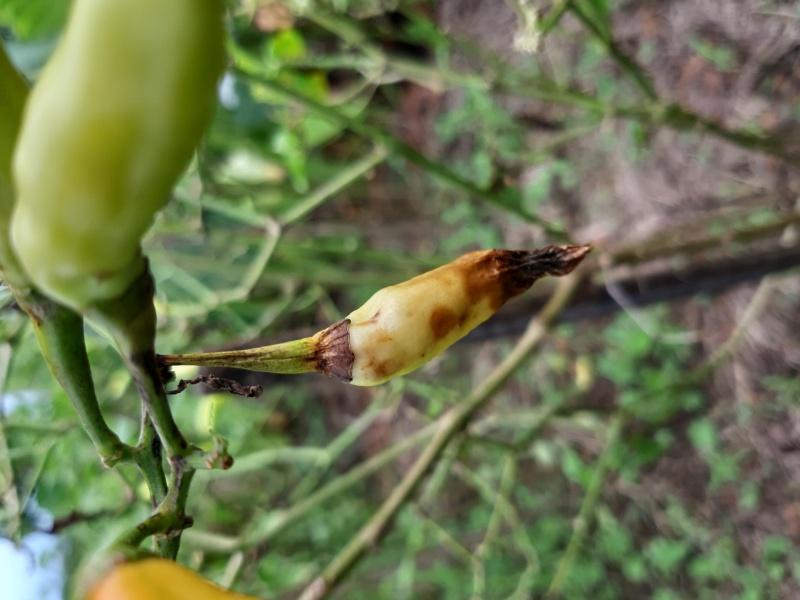antraknosa: (347, 241, 596, 388)
cabai_normal: (11, 0, 229, 299)
